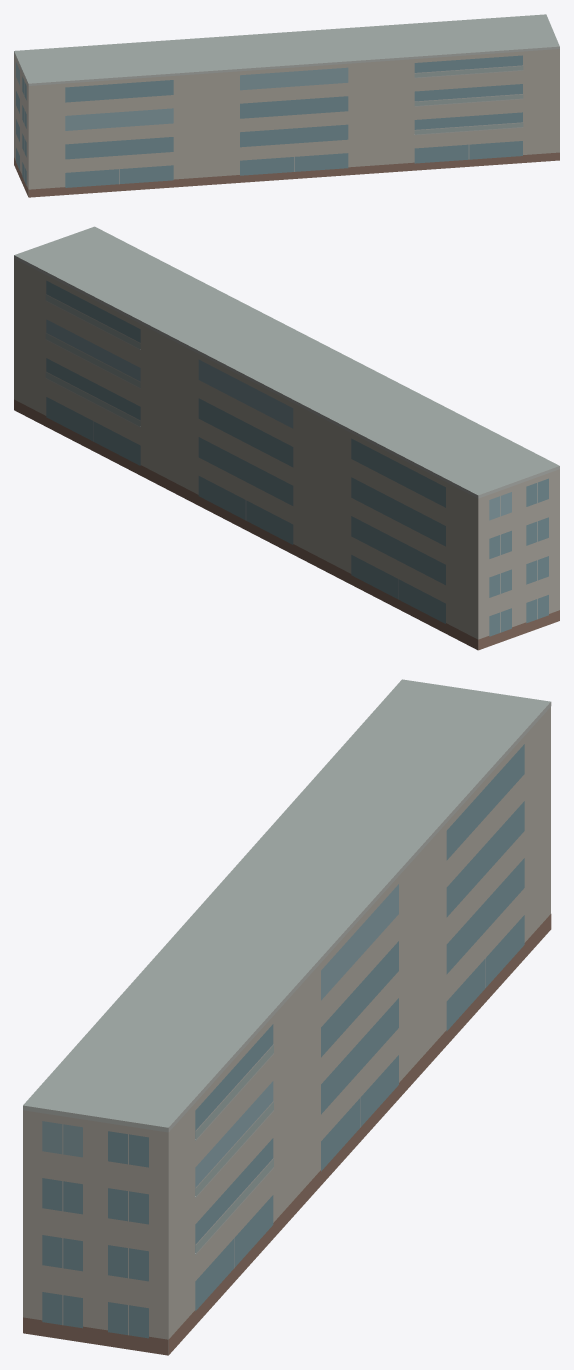
File: survey-upis-32949169.glb
3 views of the same model, one above another, from view 1: azimuth 30°, elevation 25°; view 2: azimuth 150°, elevation 25°; view 3: azimuth 270°, elevation 25° (orthographic). The views are drawn at different scales.
Visible parts, largest first — view 1: survey-upis-32949169.tmp; view 2: survey-upis-32949169.tmp; view 3: survey-upis-32949169.tmp.
Part boxes in pixels (x1,y1,x2,y2): survey-upis-32949169.tmp: [14, 14, 559, 197]; survey-upis-32949169.tmp: [14, 226, 559, 650]; survey-upis-32949169.tmp: [23, 679, 551, 1355].
Bounding box in the file's own units: 49.62 × 11.75 × 24.71.
